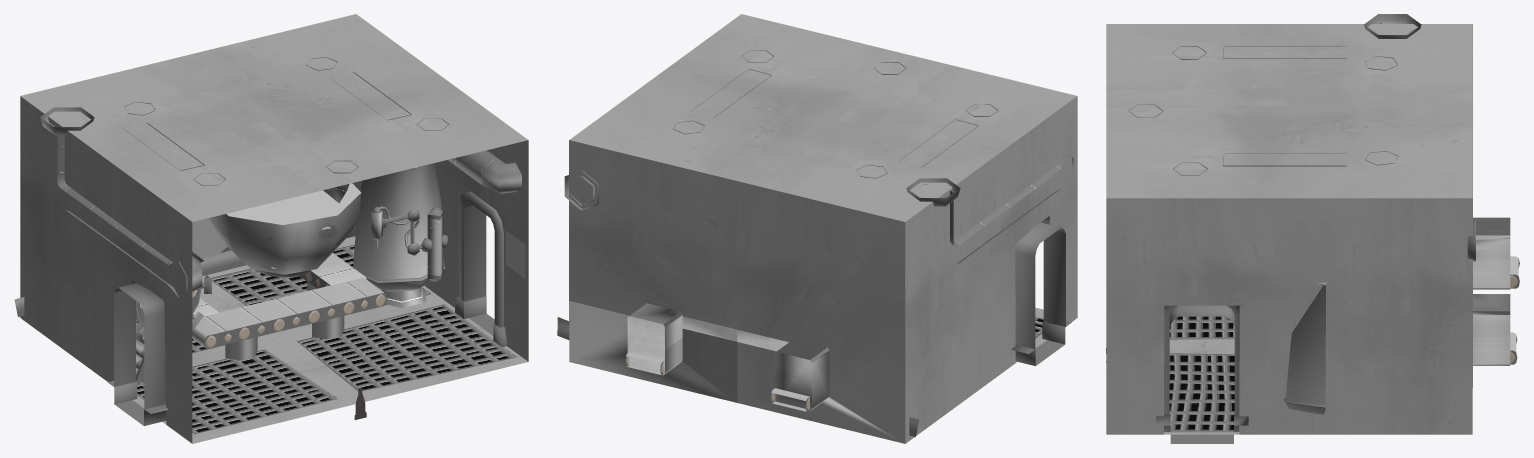
File: MSH_Nuka_room_L3_R1_optimized.fbx
3 views of the same model, side by side, from view 1: azimuth 30°, elevation 25°; view 2: azimuth 150°, elevation 25°; view 3: azimuth 270°, elevation 25° (orthographic). The views are drawn at different scales.
Visible parts, largest first — view 1: lightmap0, lightmap-1, MSH_Nuka_room_L3_ani_02; view 2: lightmap0, lightmap-1; view 3: lightmap0, lightmap-1.
Part boxes in pixels (bbox=[...]): lightmap0: bbox=[14, 14, 528, 443]; lightmap-1: bbox=[114, 183, 494, 425]; MSH_Nuka_room_L3_ani_02: bbox=[136, 252, 211, 341]; lightmap0: bbox=[557, 14, 1077, 443]; lightmap-1: bbox=[1015, 222, 1065, 366]; lightmap0: bbox=[1106, 14, 1519, 434]; lightmap-1: bbox=[1169, 305, 1234, 443].
Bounding box in the file's own units: 10.3 × 6.39 × 9.32.
